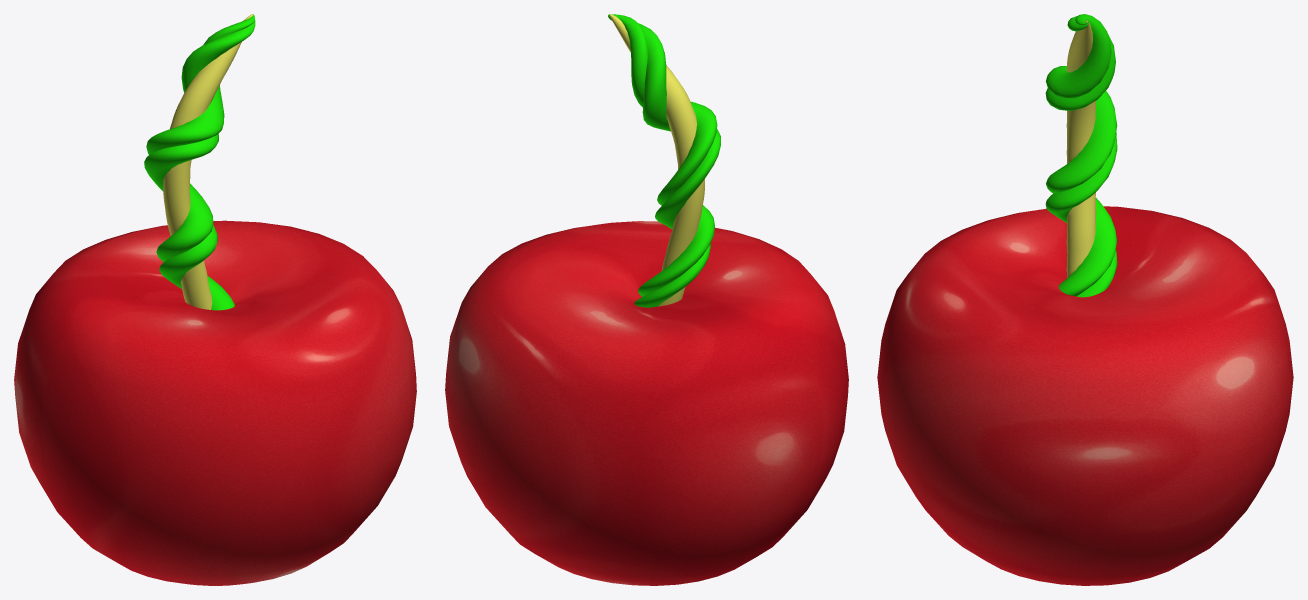
The model's file is cherry_bomb.fbx.
3 views of the same model, side by side, from view 1: azimuth 30°, elevation 25°; view 2: azimuth 150°, elevation 25°; view 3: azimuth 270°, elevation 25° (orthographic). The views are drawn at different scales.
Visible parts, largest first — view 1: Cherry_bomb; view 2: Cherry_bomb; view 3: Cherry_bomb.
Part boxes in pixels (box(x1,y1,x2,y2)): Cherry_bomb: box(14, 14, 416, 585); Cherry_bomb: box(445, 14, 848, 585); Cherry_bomb: box(877, 14, 1293, 585).
Bounding box in the file's own units: 202 × 296 × 200.
